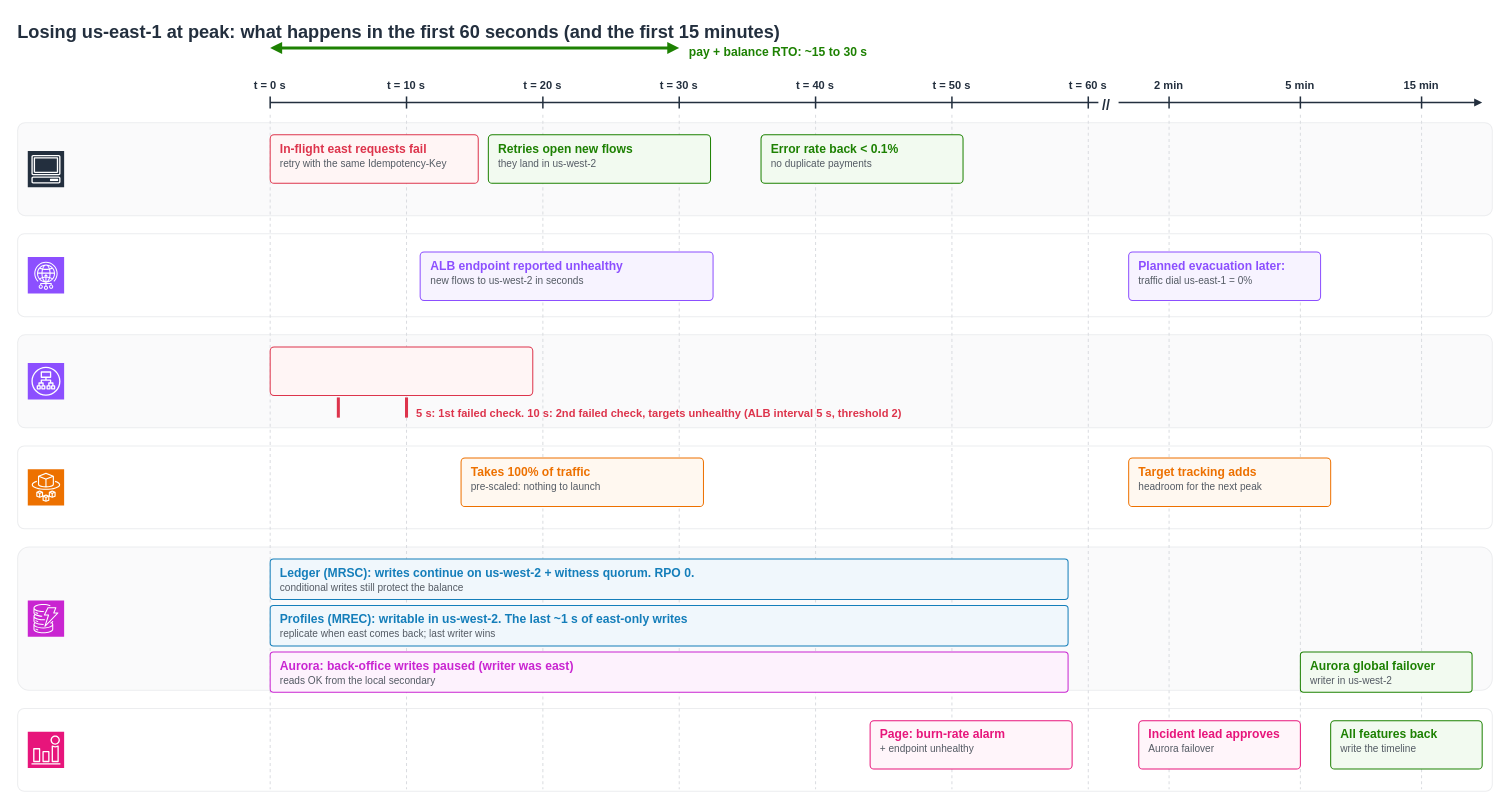
Image size: 1510x809. Some labels were removed from this diagram. Each missing label, with the centre of its shape:
"Data" goes at point (45, 618).
"Global Accelerator" goes at point (45, 274).
"People" goes at point (45, 749).
"Regional dependency fails /health/ready starts returning 503" goes at point (401, 370).
"us-east-1 ALB + ECS" goes at point (45, 380).
"us-west-2 ALB + ECS" goes at point (45, 487).
"Wallet app" goes at point (45, 168).
